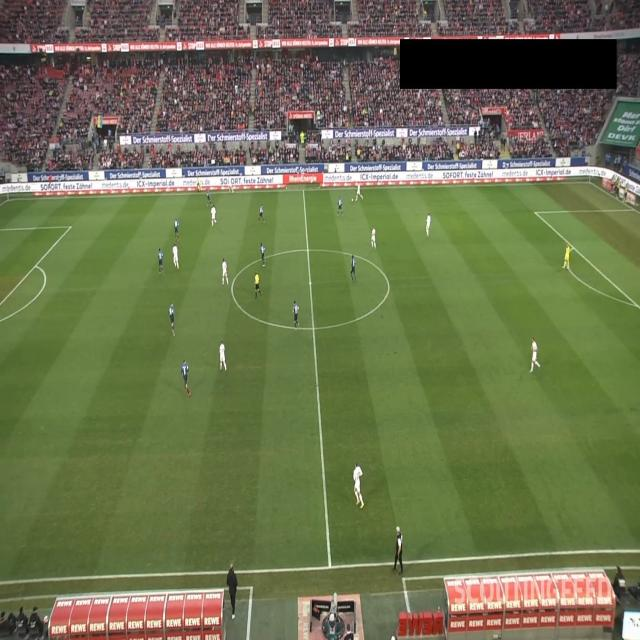ball: (351, 198, 354, 203)
